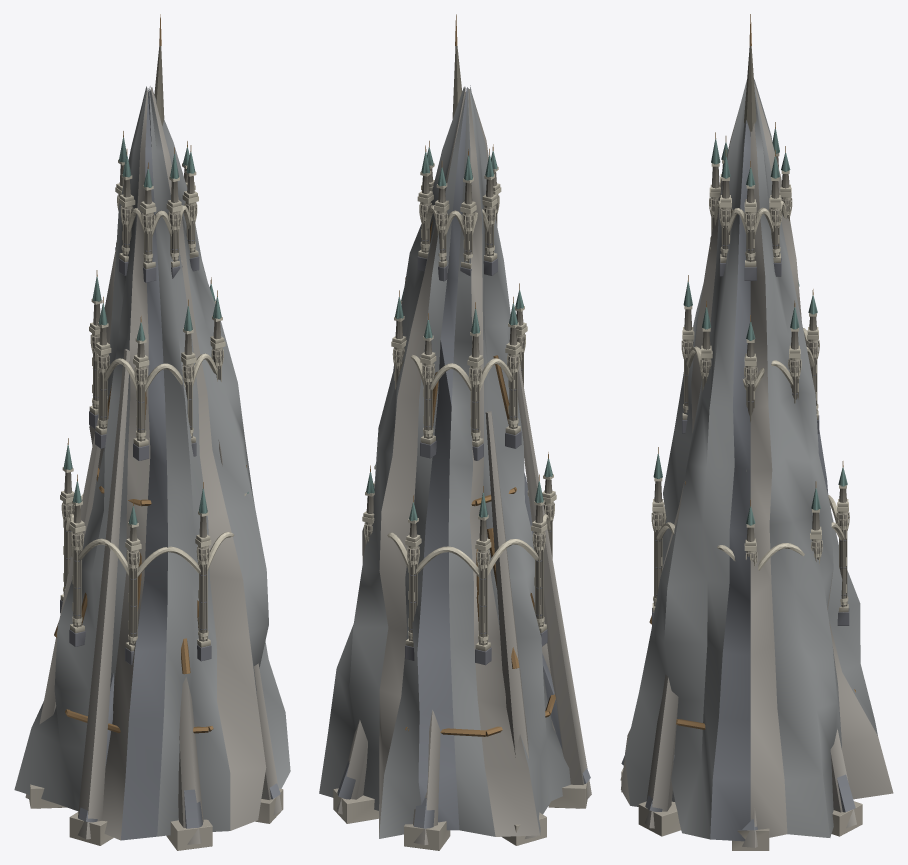
Rendered from cloudspire-needle.glb.
The picture shows the model from 3 angles, left to right: view 1: azimuth 30°, elevation 25°; view 2: azimuth 150°, elevation 25°; view 3: azimuth 270°, elevation 25°; orthographic projection.
Parts seen in each view (by area): view 1: cloudspire-needle__rock, cloudspire-needle__rock_light, cloudspire-needle__rock_dark, cloudspire-needle__pale, cloudspire-needle__limestone, cloudspire-needle__copper, cloudspire-needle__shadow, cloudspire-needle__bronze; view 2: cloudspire-needle__rock, cloudspire-needle__rock_light, cloudspire-needle__rock_dark, cloudspire-needle__pale, cloudspire-needle__limestone, cloudspire-needle__bronze, cloudspire-needle__copper, cloudspire-needle__shadow; view 3: cloudspire-needle__rock, cloudspire-needle__rock_light, cloudspire-needle__rock_dark, cloudspire-needle__pale, cloudspire-needle__limestone, cloudspire-needle__copper, cloudspire-needle__shadow.
Boxes of the visible parts, <box> form: cloudspire-needle__rock: <box>14,86,290,836</box>; cloudspire-needle__rock_light: <box>25,87,281,844</box>; cloudspire-needle__rock_dark: <box>78,87,280,840</box>; cloudspire-needle__pale: <box>60,46,246,651</box>; cloudspire-needle__limestone: <box>29,165,283,850</box>; cloudspire-needle__copper: <box>63,137,248,524</box>; cloudspire-needle__shadow: <box>60,240,211,665</box>; cloudspire-needle__bronze: <box>54,14,246,733</box>; cloudspire-needle__rock: <box>319,86,570,838</box>; cloudspire-needle__rock_light: <box>337,87,591,845</box>; cloudspire-needle__rock_dark: <box>337,85,590,830</box>; cloudspire-needle__pale: <box>362,46,556,651</box>; cloudspire-needle__limestone: <box>333,168,587,850</box>; cloudspire-needle__bronze: <box>370,14,555,736</box>; cloudspire-needle__copper: <box>366,147,552,521</box>; cloudspire-needle__shadow: <box>396,240,551,665</box>; cloudspire-needle__rock: <box>625,79,877,839</box>; cloudspire-needle__rock_light: <box>620,82,893,847</box>; cloudspire-needle__rock_dark: <box>621,120,855,841</box>; cloudspire-needle__pale: <box>651,46,849,612</box>; cloudspire-needle__limestone: <box>621,156,862,850</box>; cloudspire-needle__copper: <box>653,129,847,525</box>; cloudspire-needle__shadow: <box>652,245,849,625</box>.
Bounding box in the file's own units: 105 × 346 × 109.
